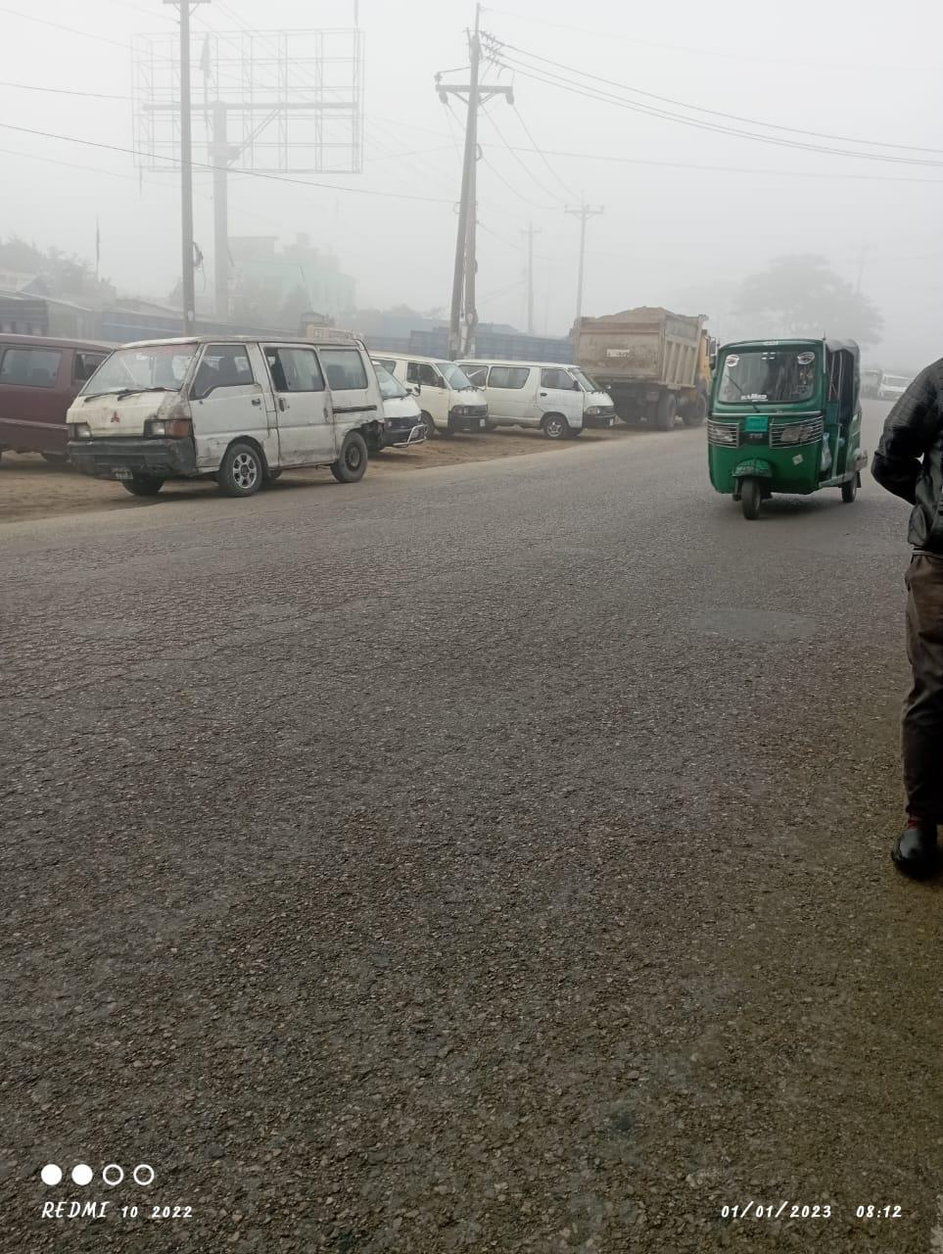Car: (51, 325, 392, 502), (456, 349, 619, 451), (381, 330, 492, 444)
Truck: (582, 299, 711, 436)
